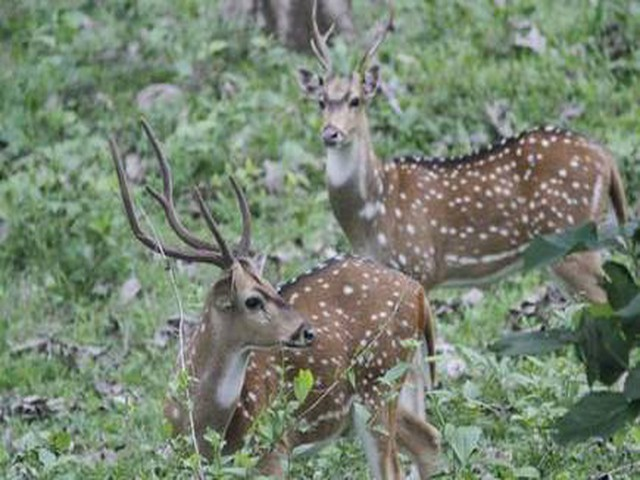deer: (103, 113, 436, 477), (301, 6, 638, 260)
